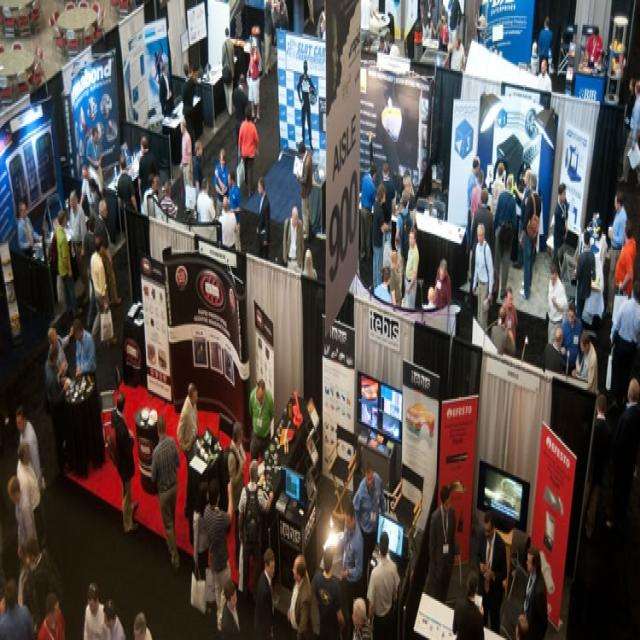body: (149, 409, 183, 578), (605, 374, 640, 534), (7, 472, 45, 612), (236, 457, 274, 596), (202, 473, 234, 635), (352, 457, 388, 601), (109, 390, 141, 537), (605, 276, 640, 409), (474, 509, 508, 638), (40, 337, 71, 473), (365, 528, 402, 640), (513, 537, 552, 638), (426, 482, 456, 606), (19, 536, 56, 636), (89, 232, 119, 351), (310, 542, 346, 640), (55, 206, 82, 336), (176, 381, 200, 525), (417, 0, 465, 71), (518, 172, 543, 305), (604, 190, 629, 321), (492, 170, 517, 300), (339, 498, 363, 633), (95, 197, 123, 308), (582, 392, 612, 494), (227, 418, 247, 571), (468, 186, 496, 294), (541, 324, 569, 432), (470, 220, 495, 335), (14, 440, 41, 546), (450, 562, 487, 638), (283, 553, 316, 638), (248, 376, 276, 464), (16, 404, 44, 490), (371, 178, 392, 292), (236, 101, 260, 199), (394, 188, 415, 300), (102, 595, 153, 640), (252, 546, 276, 640), (215, 574, 250, 638), (0, 578, 36, 640), (574, 229, 598, 321), (292, 138, 313, 243), (34, 580, 72, 638), (619, 81, 640, 184), (295, 53, 317, 151), (570, 326, 599, 396), (546, 261, 569, 349), (550, 179, 570, 278), (513, 168, 532, 272), (613, 216, 637, 298), (83, 213, 99, 333), (137, 133, 161, 213), (359, 162, 378, 262), (176, 115, 194, 220), (192, 481, 210, 584), (560, 302, 584, 378), (232, 73, 251, 165), (16, 198, 44, 259), (617, 74, 635, 168), (46, 322, 76, 378), (83, 581, 111, 640), (226, 165, 244, 253), (465, 152, 481, 250), (379, 160, 397, 246), (219, 25, 235, 120), (282, 204, 304, 273), (181, 60, 196, 160), (67, 188, 88, 259), (491, 303, 518, 358), (255, 175, 272, 262), (73, 319, 97, 380), (84, 126, 104, 197), (116, 154, 139, 215), (79, 161, 103, 218), (218, 193, 240, 254), (212, 147, 230, 220), (245, 39, 260, 122), (141, 172, 164, 222), (349, 594, 374, 640), (489, 160, 507, 223), (361, 28, 400, 57), (536, 12, 554, 74), (498, 287, 518, 342), (195, 176, 217, 225), (192, 138, 204, 227), (431, 257, 452, 307), (470, 167, 486, 230), (148, 39, 168, 89), (158, 58, 173, 120), (270, 0, 290, 43), (263, 0, 274, 78), (585, 25, 604, 69), (373, 264, 393, 305), (160, 179, 178, 220), (535, 57, 554, 94), (421, 284, 438, 316), (302, 247, 318, 280), (384, 9, 395, 30), (404, 176, 414, 198)
